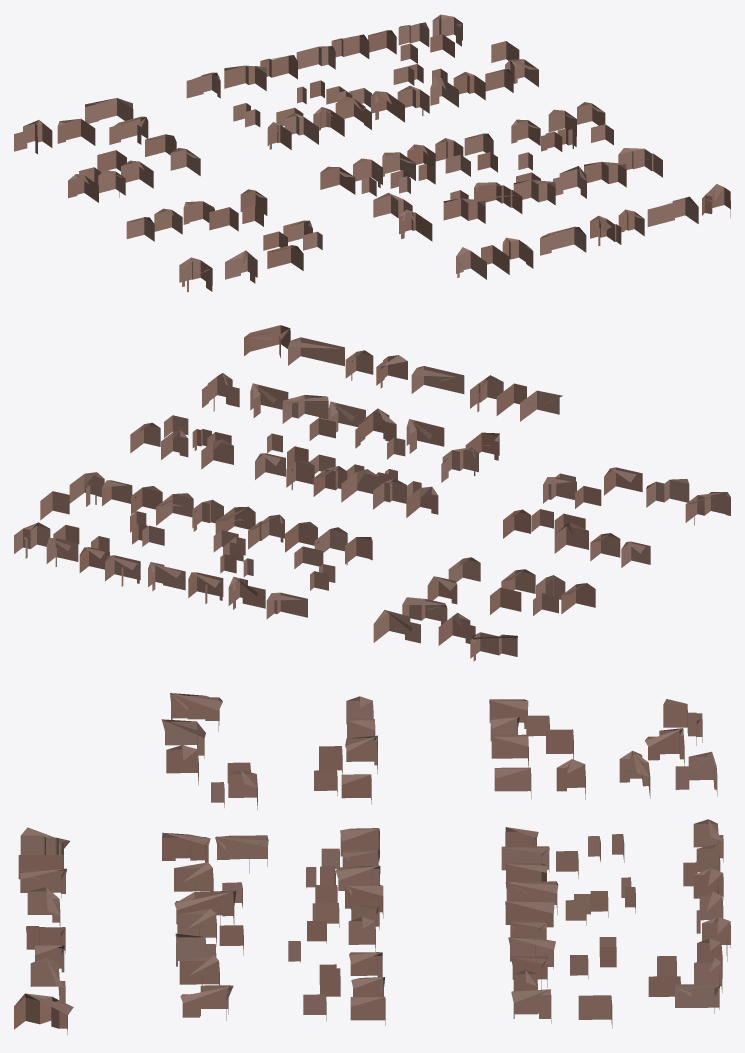
File: c_1646_17829_buildings_residential.glb
3 views of the same model, one above another, from view 1: azimuth 30°, elevation 25°; view 2: azimuth 150°, elevation 25°; view 3: azimuth 270°, elevation 25° (orthographic). The views are drawn at different scales.
Parts seen in each view (by area): view 1: geometry_0; view 2: geometry_0; view 3: geometry_0.
Boxes of the visible parts, x1,y1,x2,y2 form: geometry_0: [14, 14, 730, 292]; geometry_0: [14, 325, 730, 661]; geometry_0: [14, 693, 730, 1034].
Bounding box in the file's own units: 269 × 10.94 × 254.
